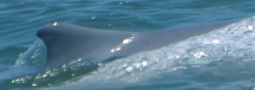fin: (26, 6, 247, 88)
